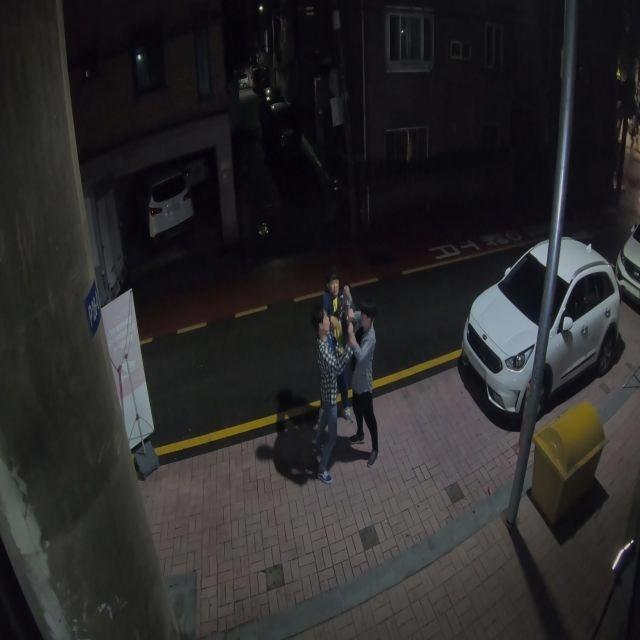fight: (313, 294, 382, 488)
